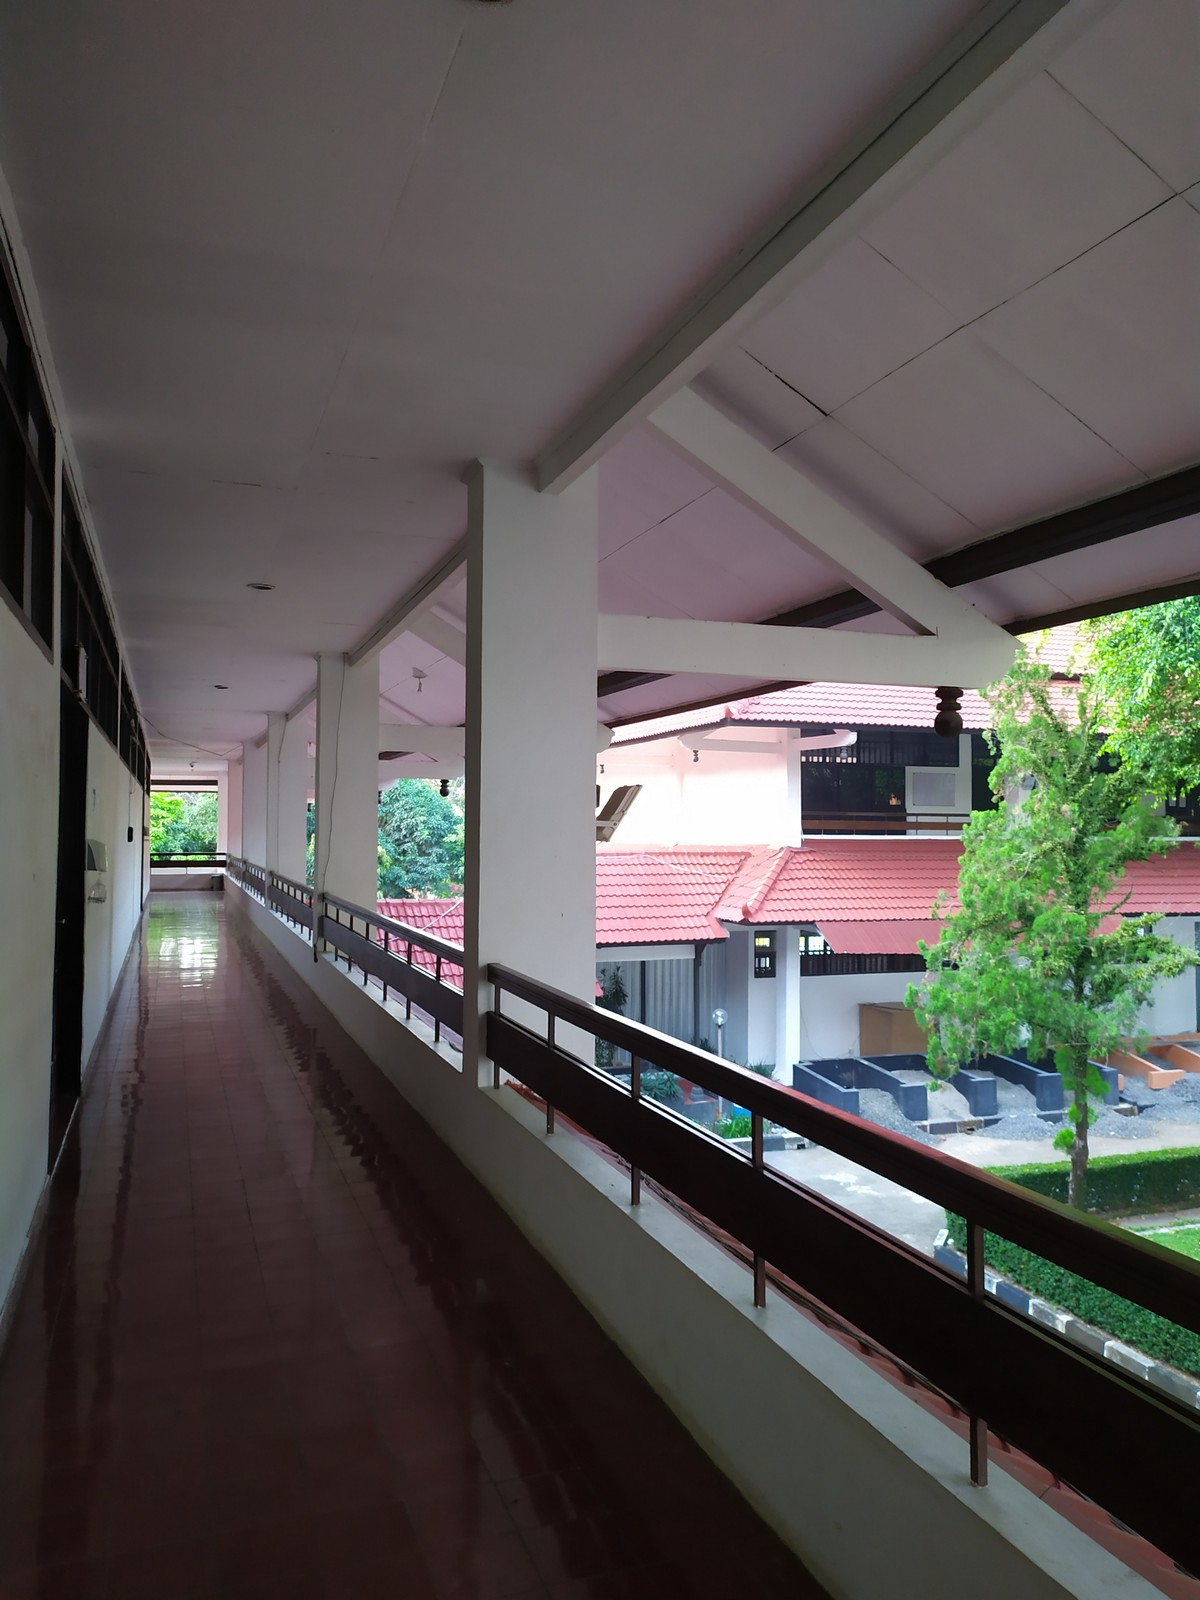concrete beam: (582, 609, 939, 695)
concrete column: (456, 443, 613, 1099), (306, 643, 389, 955)
